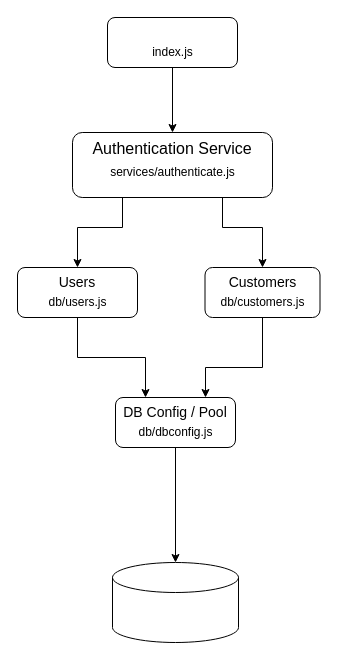
The diagram is 338 pixels wide and 660 high, and some of its shapes have lost their labels. Here are the shapes that lost their labels. From the top down, the box of each, then its label:
(106, 16, 238, 68): EXPRESS APP
(112, 562, 238, 642): PostgreSQL Database
